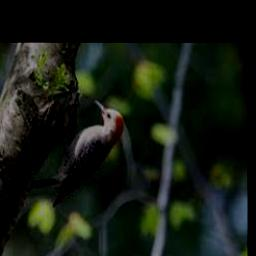Woodpecker: (29, 97, 123, 206)
